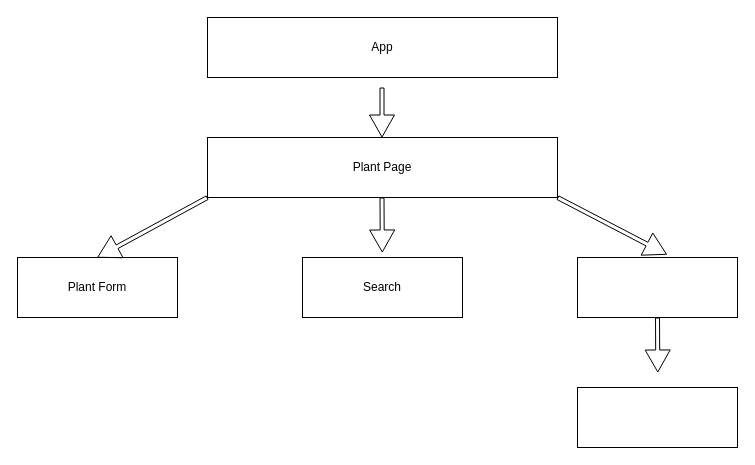
The diagram is 755 pixels wide and 465 high, and some of its shapes have lost their labels. The shapes that lost their labels are listed below. From the top down, each one's box as (x1, y1, x2, y2) in pixels, then its label:
(576, 256, 738, 318): Plant List
(576, 386, 738, 448): Plant Card
